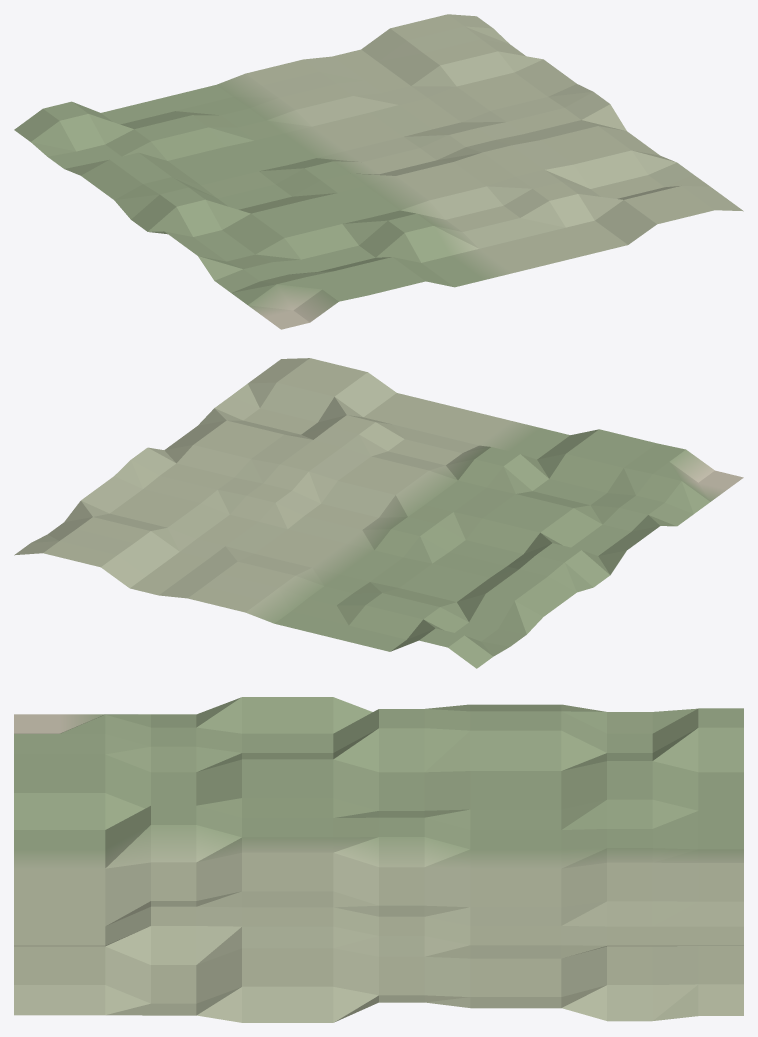
3 renders of one model, top to bottom at view 1: azimuth 30°, elevation 25°; view 2: azimuth 150°, elevation 25°; view 3: azimuth 270°, elevation 25°, orthographic. The views are drawn at different scales.
Bounding box in the file's own units: 32 × 1.22 × 32.
